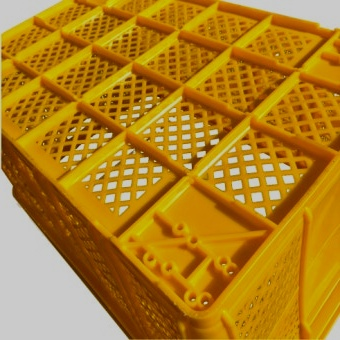plastic: (18, 27, 320, 314)
